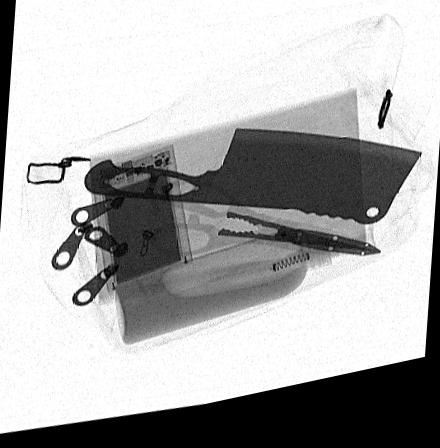Knife: (81, 137, 423, 238)
Powerbank: (93, 150, 196, 298)
Scissors: (138, 184, 385, 274)
